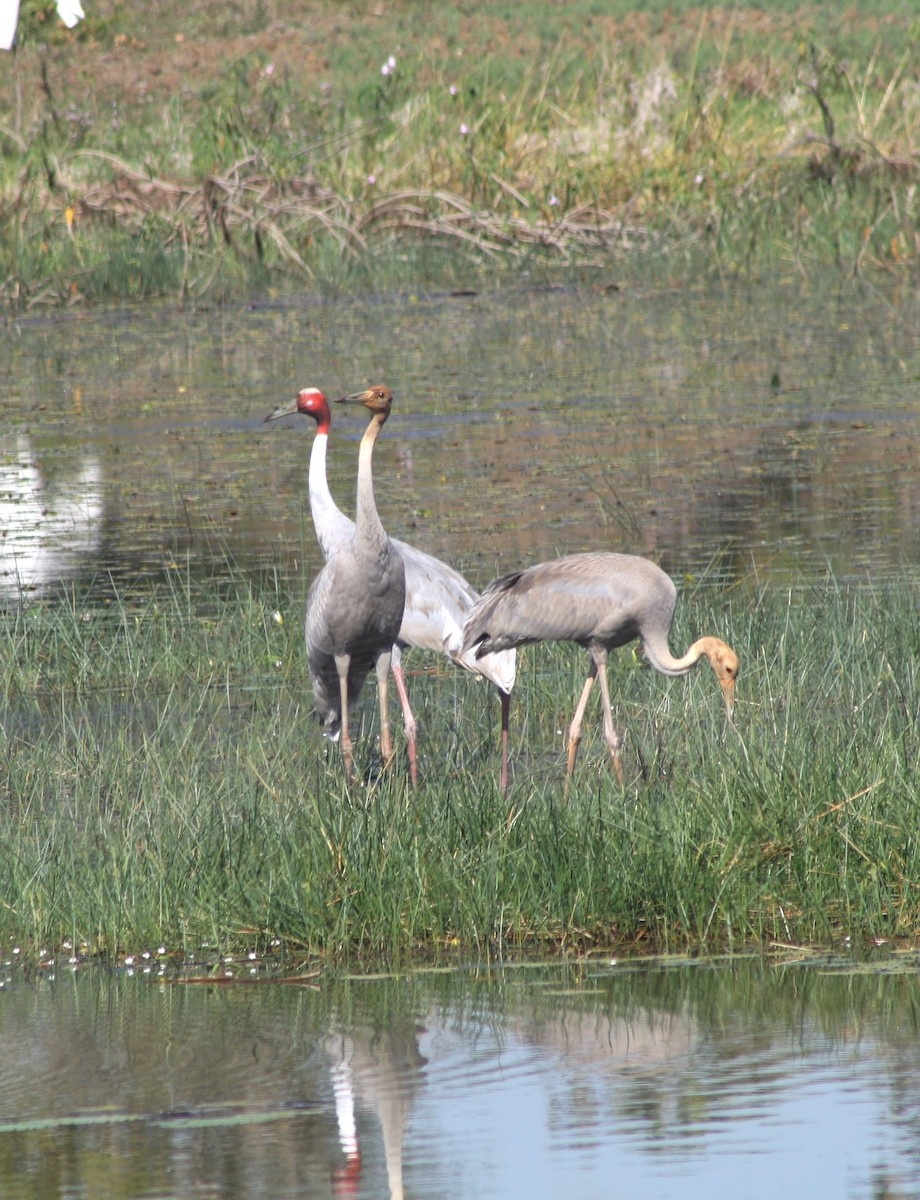crane: (468, 553, 762, 764), (329, 376, 437, 722), (258, 370, 350, 529)
